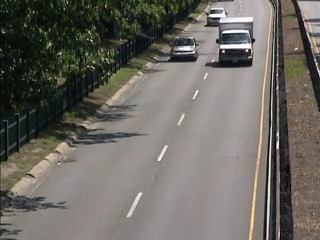car: (169, 35, 199, 64), (205, 8, 230, 29)
truck: (217, 16, 256, 71)
